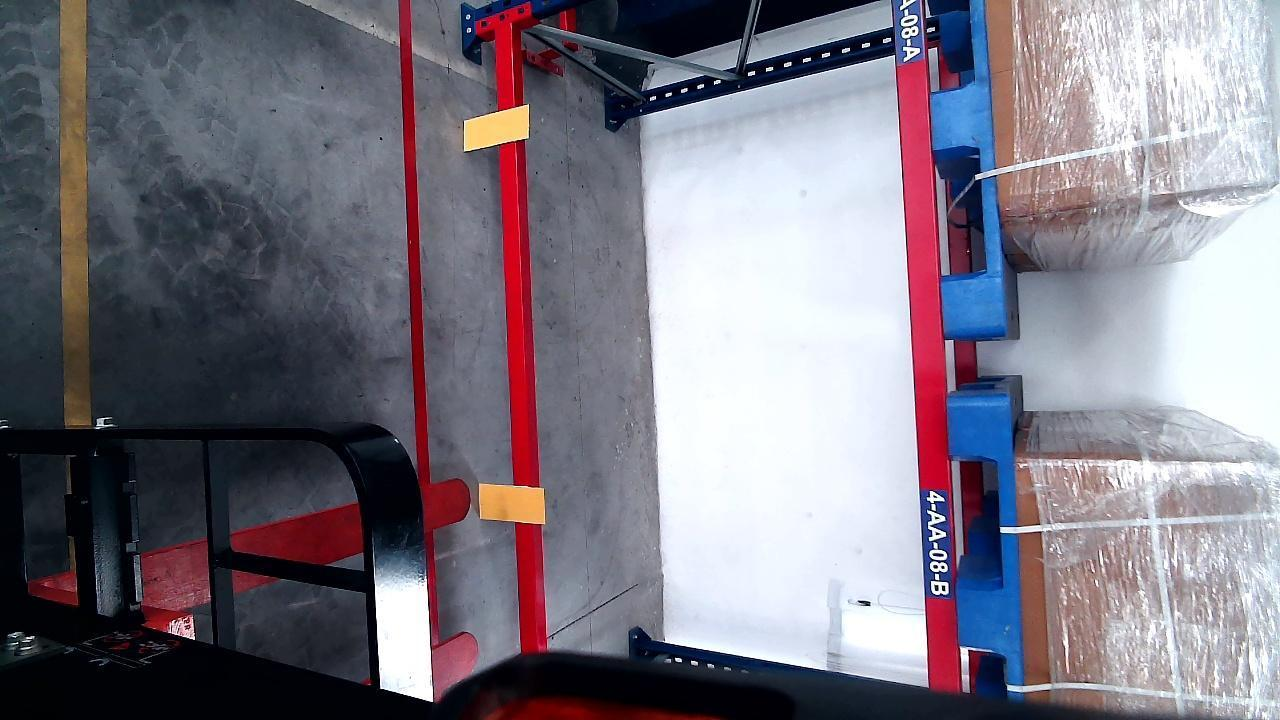h_rack: (891, 0, 957, 690), (492, 9, 545, 673)
orange_strip: (462, 105, 528, 151), (477, 483, 543, 524)
red_line: (399, 0, 434, 474)
small_pallet: (921, 0, 1006, 335), (951, 399, 1022, 694)
yellow_line: (58, 0, 93, 425)
